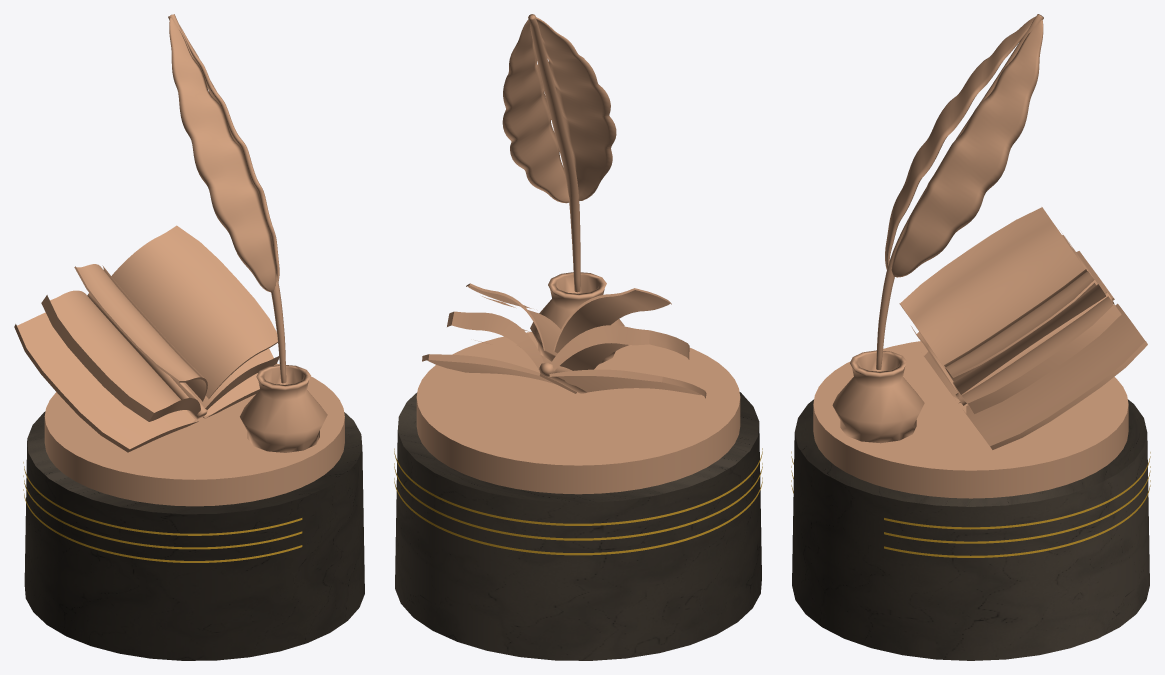
Rendered from literature.glb.
The picture shows the model from 3 angles, left to right: view 1: azimuth 30°, elevation 25°; view 2: azimuth 150°, elevation 25°; view 3: azimuth 270°, elevation 25°; orthographic projection. The views are drawn at different scales.
Visible parts, largest first — view 1: marble_column, gold_cap, leaf_l, vane_b, pages_r, cover_r, ink_bottle, leaf_r, vane_a, pages_l, quill_shaft, cover_l (+4 smaller); view 2: marble_column, gold_cap, vane_b, vane_a, pages_r, quill_shaft, leaf_r, ink_bottle, cover_r, pages_l, cover_l, leaf_l (+3 smaller); view 3: marble_column, gold_cap, leaf_r, vane_a, cover_l, pages_l, ink_bottle, vane_b, leaf_l, quill_shaft, gold_band_1, gold_band_3 (+3 smaller).
Part boxes in pixels (<box>): marble_column: <box>24,411,364,660</box>; gold_cap: <box>44,363,344,506</box>; leaf_l: <box>111,225,277,398</box>; vane_b: <box>169,15,276,292</box>; pages_r: <box>41,290,200,421</box>; cover_r: <box>14,312,198,452</box>; ink_bottle: <box>240,365,327,452</box>; leaf_r: <box>74,264,207,401</box>; vane_a: <box>171,14,279,281</box>; pages_l: <box>185,348,279,409</box>; quill_shaft: <box>168,14,286,383</box>; cover_l: <box>203,373,259,418</box>; marble_column: <box>395,392,761,660</box>; gold_cap: <box>416,332,740,494</box>; vane_b: <box>532,16,616,200</box>; vane_a: <box>502,17,569,203</box>; pages_r: <box>550,325,689,370</box>; quill_shaft: <box>528,14,580,292</box>; leaf_r: <box>553,288,671,353</box>; ink_bottle: <box>530,272,624,364</box>; cover_r: <box>549,369,706,398</box>; pages_l: <box>447,311,551,369</box>; cover_l: <box>422,354,576,393</box>; leaf_l: <box>466,283,560,356</box>; marble_column: <box>792,399,1149,660</box>; gold_cap: <box>813,341,1128,498</box>; leaf_r: <box>899,207,1084,381</box>; vane_a: <box>891,16,1043,277</box>; cover_l: <box>963,303,1147,449</box>; pages_l: <box>953,284,1121,413</box>; ink_bottle: <box>832,350,924,443</box>; vane_b: <box>885,15,1040,269</box>; leaf_l: <box>944,269,1095,381</box>; quill_shaft: <box>876,14,1043,369</box>; gold_band_1: <box>791,480,1150,557</box>; gold_band_3: <box>791,451,1150,529</box>.
Size of what is drawn, in the model's own units: 0.4543 by 0.8041 by 0.4543.
5 materials, 1 textured.
